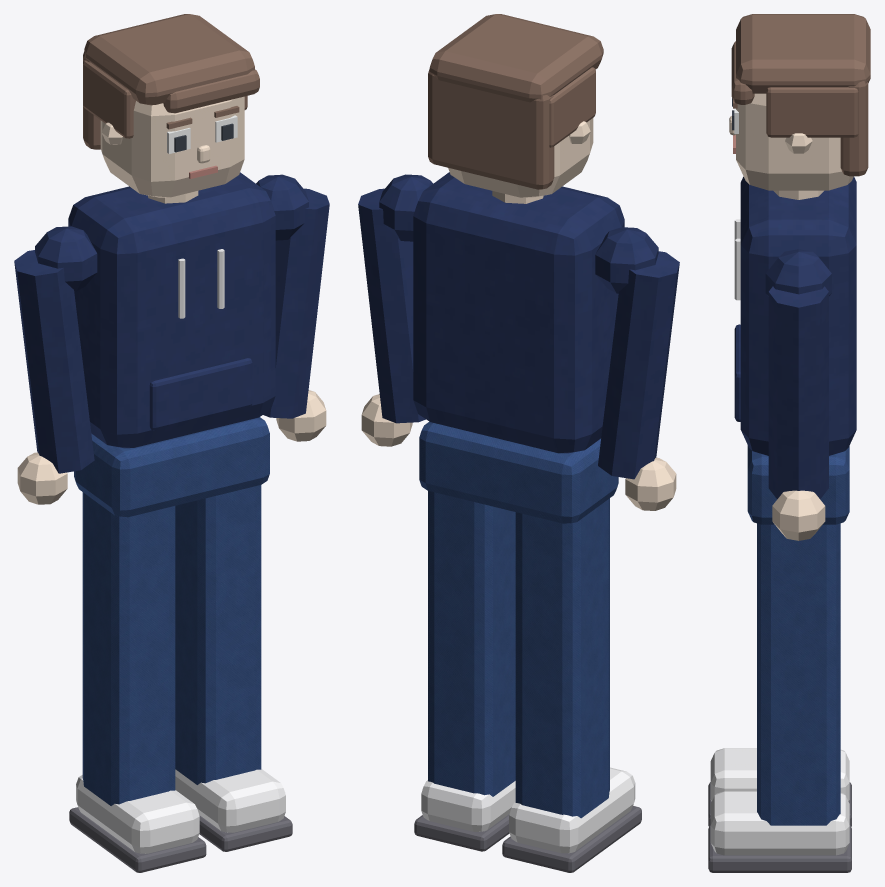
The picture shows the model from 3 angles, left to right: view 1: azimuth 30°, elevation 25°; view 2: azimuth 150°, elevation 25°; view 3: azimuth 270°, elevation 25°; orthographic projection. The views are drawn at different scales.
Visible parts, largest first — view 1: Skin_campus_classic; view 2: Skin_campus_classic; view 3: Skin_campus_classic.
Part boxes in pixels (<box>): Skin_campus_classic: <box>14,14,329,872</box>; Skin_campus_classic: <box>358,14,679,872</box>; Skin_campus_classic: <box>708,14,870,872</box>.
Size of the model in its own units: 0.79 by 1.9 by 0.35.
3 materials, 3 textured.
